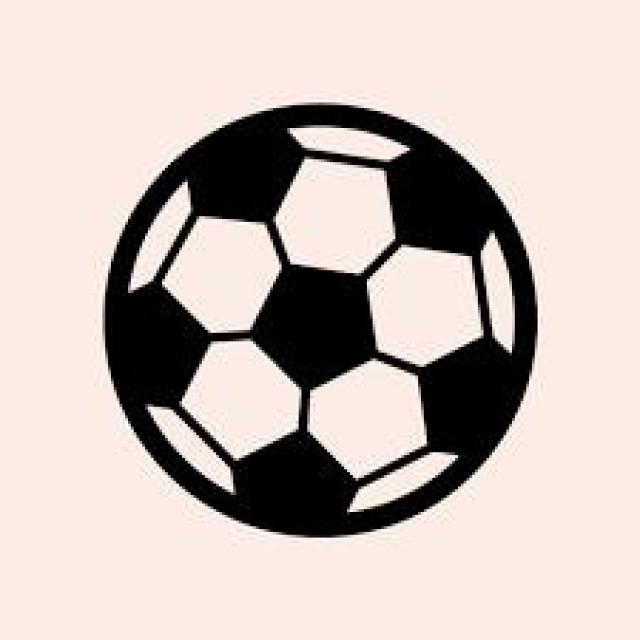Soccer Ball: (105, 102, 538, 535)
